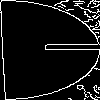L: (25, 25, 100, 54)
